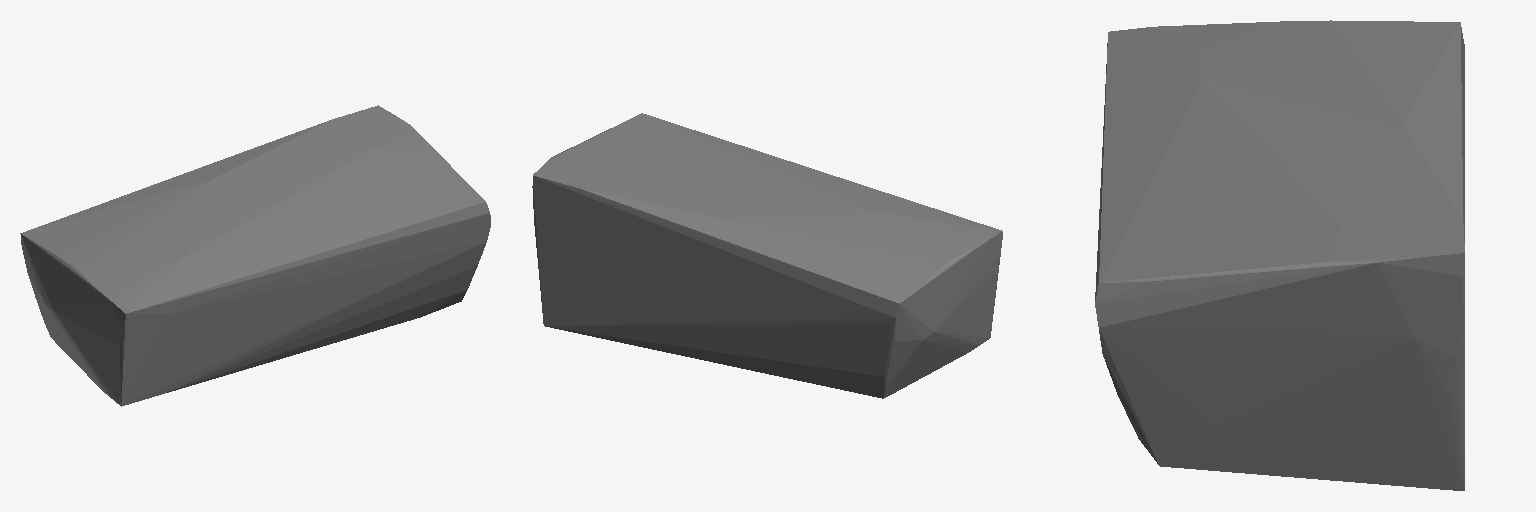
URDF robot description (5_222):
<?xml version="1.0"?>
<robot name="5_222">
  <link name="link">
    <contact>
      <lateral_friction value="0.6"/>
    </contact>
    <inertial>
      <origin xyz="0.0017533159310275934 0.002179057055717429 -0.001897302890982509" rpy="0 0 0"/>
      <mass value = "0.5137953930828459"/>
      <inertia ixx="0.000186148061224965" ixy="7.121307088788239e-06" ixz="2.850077935923856e-05" iyy="0.0005766154115537256" iyz="-8.921014789175559e-07" izz="0.0006463507635302293" />
    </inertial>
    <visual name="visual">
      <geometry>
        <mesh filename="5_222.obj"/>
      </geometry>
      <material name="material">
        <color rgba="0.5412252520621614 0.5412252520621614 0.5412252520621614 1.0"/>
      </material>
    </visual>
    <collision name="collision">
      <geometry>
        <mesh filename="5_222.obj"/>
      </geometry>
    </collision>
  </link>
</robot>

--- Facts derived from the render (not from the file) ---
Views: 3 orthographic renders of the robot side by side, from view 1: azimuth 30°, elevation 25°; view 2: azimuth 150°, elevation 25°; view 3: azimuth 270°, elevation 25°.
Robot: 5_222 — 1 links, 0 joints (none); root link link; default pose: all joints at 0.
Links seen in each view (by area): view 1: link; view 2: link; view 3: link.
Boxes of the visible links, x1,y1,x2,y2 form: link: (20,105,490,406); link: (532,113,1002,398); link: (1095,20,1464,490).
Size in the robot's own frame: 0.1146 by 0.059 by 0.0435 metres.
Meshes: 1 distinct files referenced, 1 mesh visuals loaded (1 OBJ).
